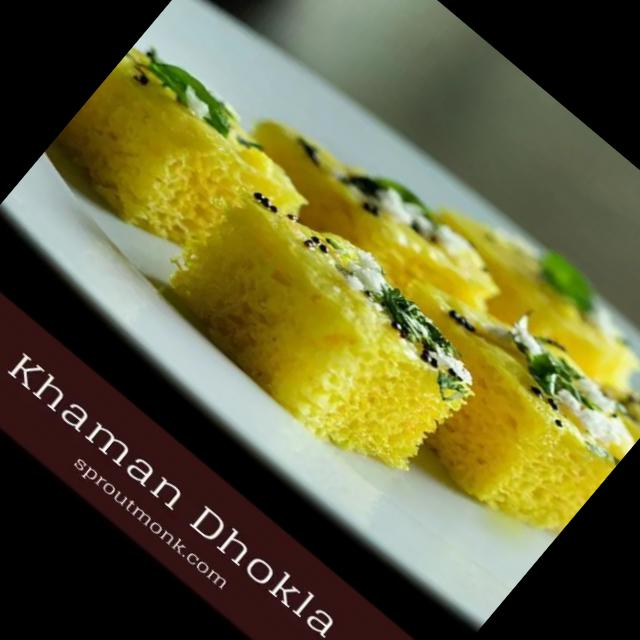dhokla: (40, 0, 640, 574)
